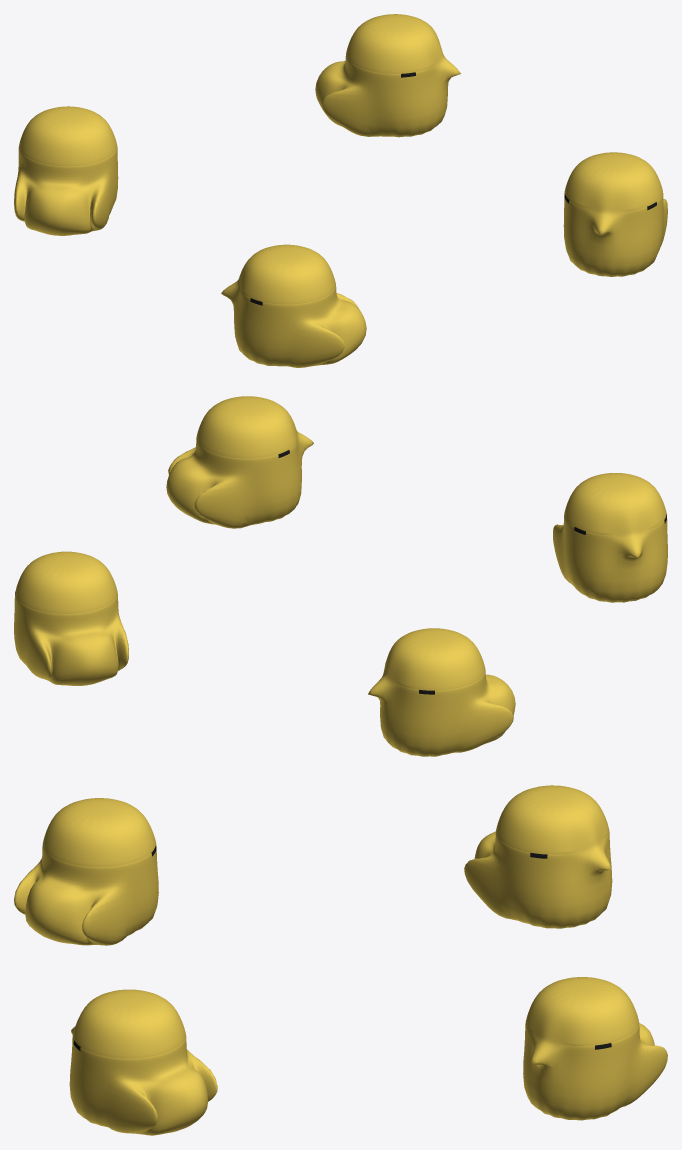
Rendered from faintedBird.fbx.
The picture shows the model from 3 angles, top to bottom: view 1: azimuth 30°, elevation 25°; view 2: azimuth 150°, elevation 25°; view 3: azimuth 270°, elevation 25°; orthographic projection. The views are drawn at different scales.
Parts seen in each view (by area): view 1: pCylinder2, pCylinder1, pCylinder4, pCylinder3; view 2: pCylinder3, pCylinder4, pCylinder2, pCylinder1; view 3: pCylinder3, pCylinder1, pCylinder4, pCylinder2.
Boxes of the visible parts, x1=… form: pCylinder2: x1=315, y1=14, x2=460, y2=137; pCylinder1: x1=221, y1=244, x2=366, y2=367; pCylinder4: x1=14, y1=106, x2=118, y2=235; pCylinder3: x1=563, y1=152, x2=667, y2=276; pCylinder3: x1=166, y1=396, x2=313, y2=528; pCylinder4: x1=368, y1=628, x2=515, y2=756; pCylinder2: x1=14, y1=551, x2=128, y2=685; pCylinder1: x1=553, y1=473, x2=667, y2=602; pCylinder3: x1=69, y1=989, x2=217, y2=1135; pCylinder1: x1=14, y1=798, x2=158, y2=945; pCylinder4: x1=464, y1=785, x2=612, y2=928; pCylinder2: x1=523, y1=977, x2=667, y2=1120.
Size of the model in its own units: 51.94 by 10.48 by 51.94.
